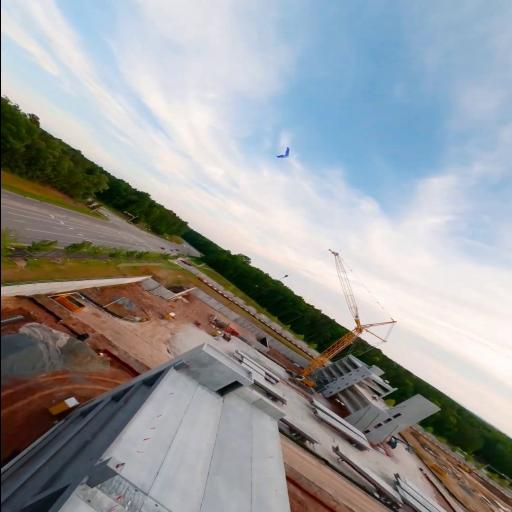uav: (272, 143, 300, 163)
